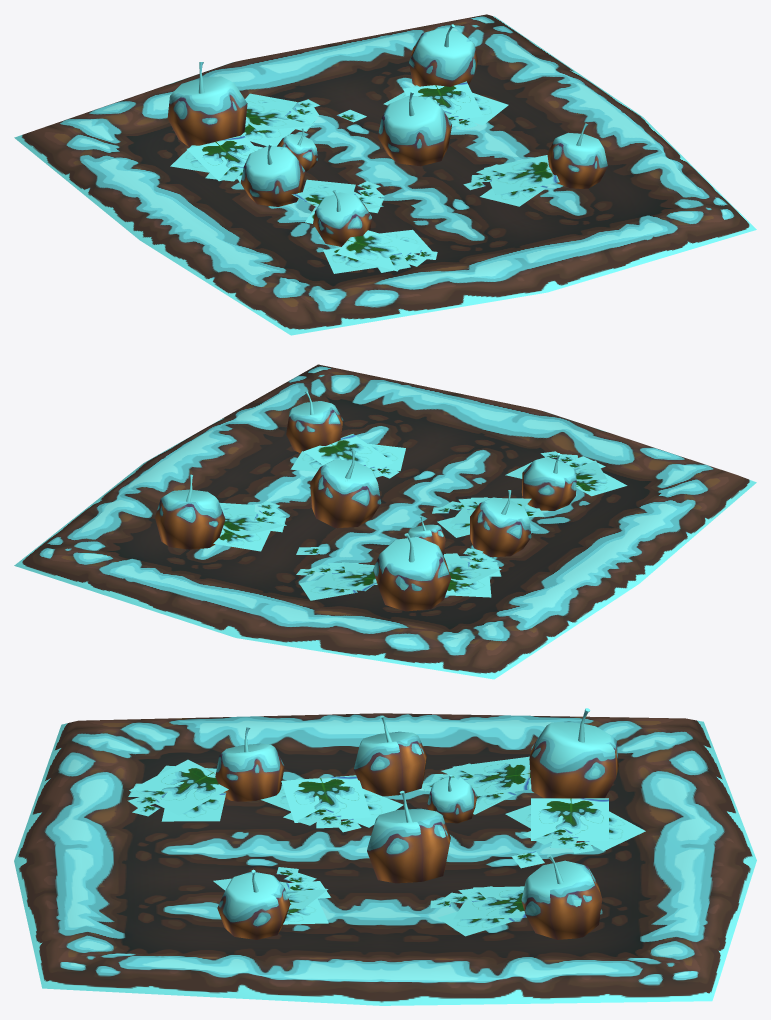
The model's file is Paddy1.FBX.
3 views of the same model, one above another, from view 1: azimuth 30°, elevation 25°; view 2: azimuth 150°, elevation 25°; view 3: azimuth 270°, elevation 25° (orthographic). The views are drawn at different scales.
Visible parts, largest first — view 1: Line1656; view 2: Line1656; view 3: Line1656.
Boxes of the visible parts, x1,y1,x2,y2 form: Line1656: (14,14,756,335); Line1656: (14,364,756,679); Line1656: (14,708,756,1005).
Size of the model in its own units: 274 by 40.71 by 296.
Materials: 1 (1 with a texture image).
